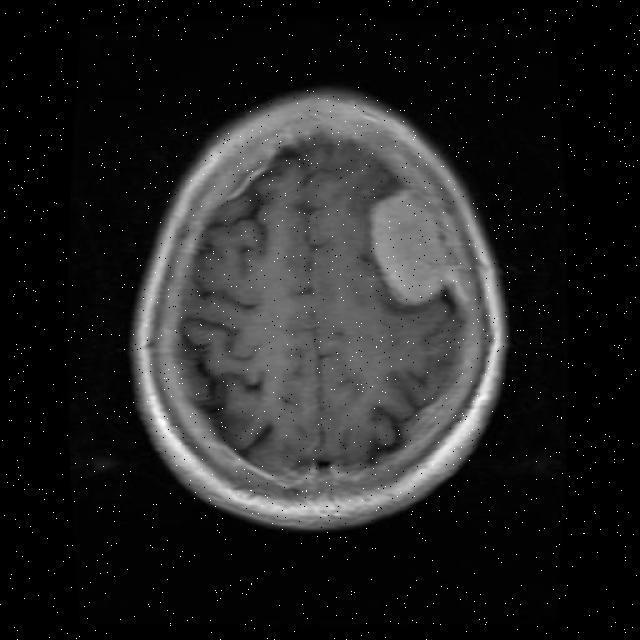Meningioma: (373, 190, 465, 305)
